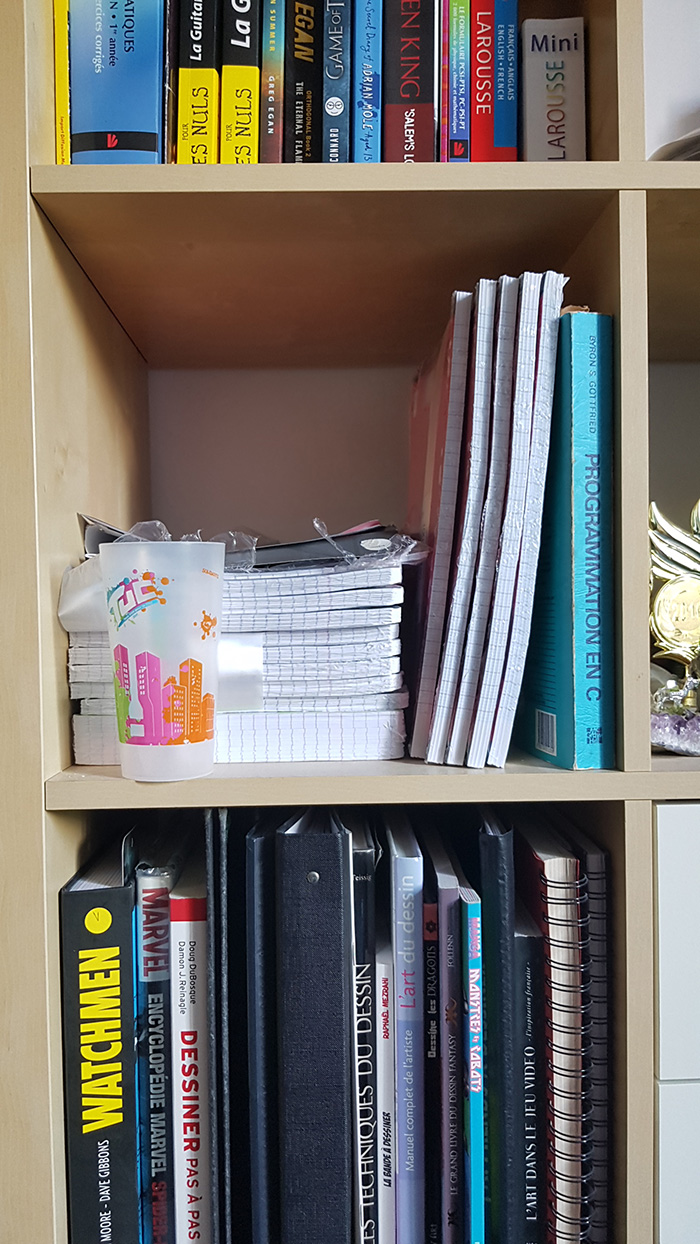ecocup: (95, 540, 228, 782)
